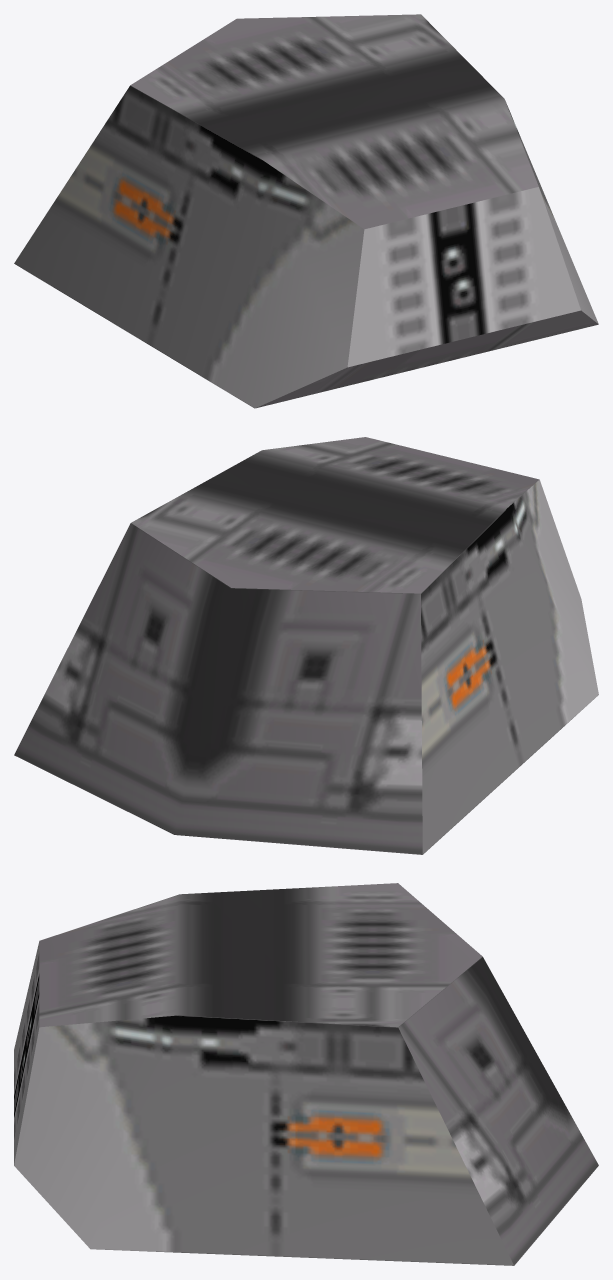
Rendered from right turret 1.obj.
3 views of the same model, one above another, from view 1: azimuth 30°, elevation 25°; view 2: azimuth 150°, elevation 25°; view 3: azimuth 270°, elevation 25° (orthographic).
Parts seen in each view (by area): view 1: gunsides, guntop, gunfront; view 2: gunback, guntop, gunsides; view 3: gunsides, guntop, gunback, gunfront.
Boxes of the visible parts, <box> form: gunsides: <box>14,85,598,408</box>; guntop: <box>130,14,598,408</box>; gunfront: <box>347,187,580,367</box>; gunback: <box>14,523,422,854</box>; guntop: <box>131,437,539,593</box>; gunsides: <box>421,480,598,854</box>; gunsides: <box>14,1015,513,1265</box>; guntop: <box>39,883,482,1027</box>; gunback: <box>398,957,598,1265</box>; gunfront: <box>14,942,39,1164</box>.
Size of the model in its own units: 47.36 by 22.71 by 57.64.
